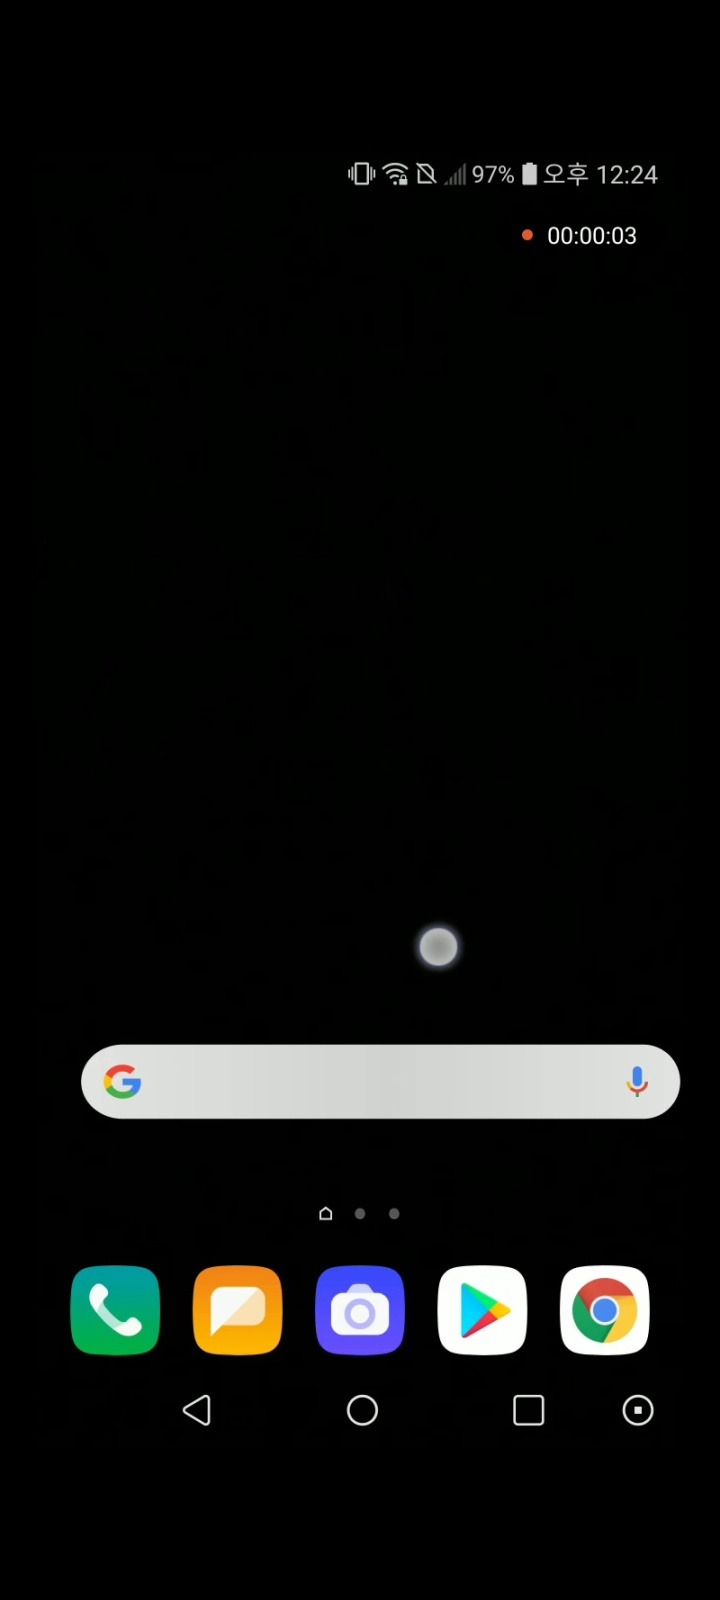Cursor: (417, 924, 462, 970)
